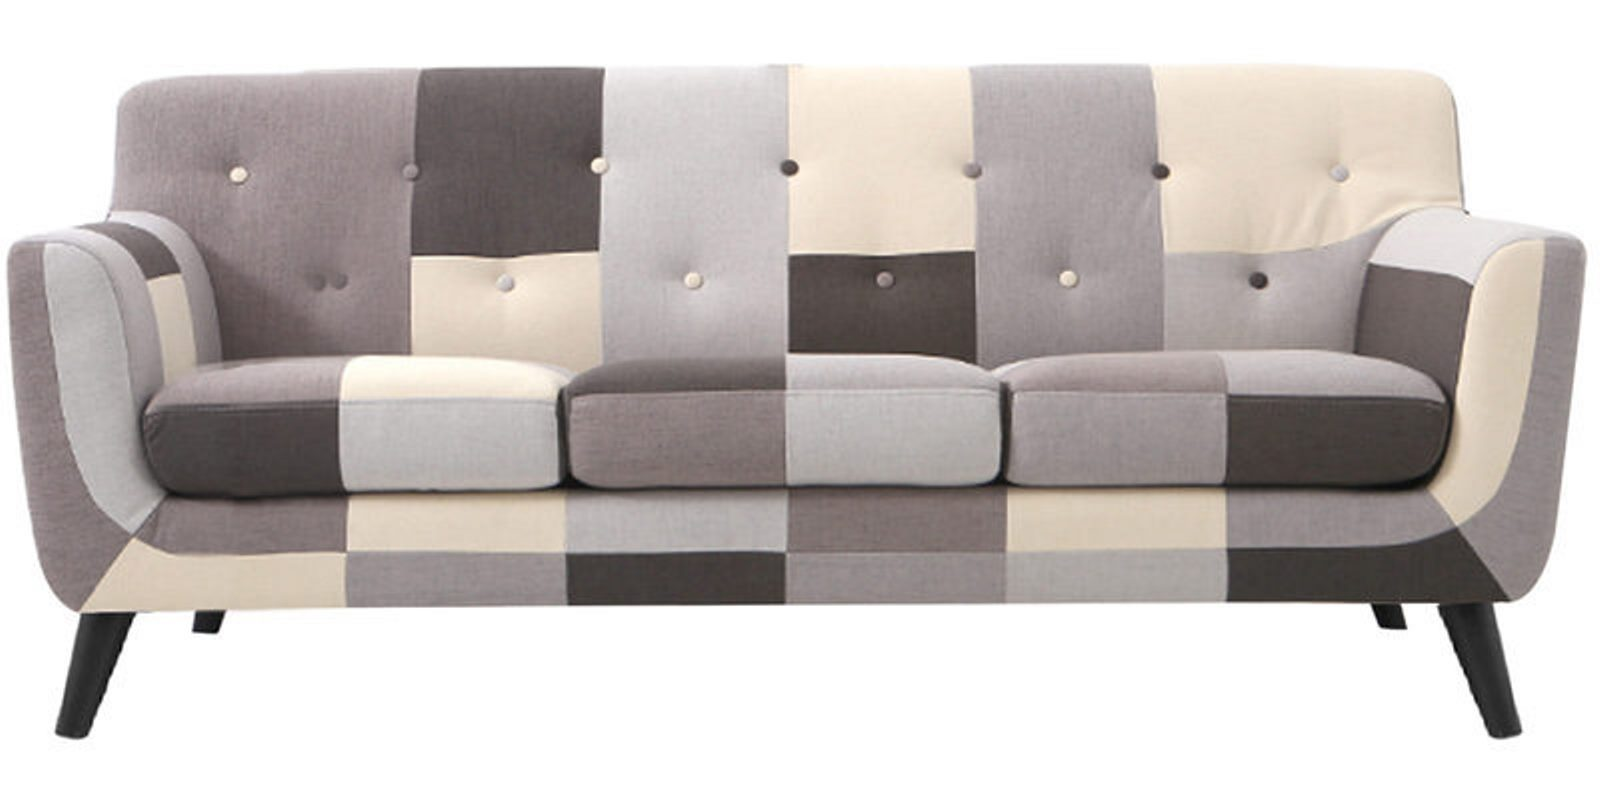Frida Three Seater Sofa in Grey Multi Colour by CasaCraft: (7, 51, 1589, 774)
